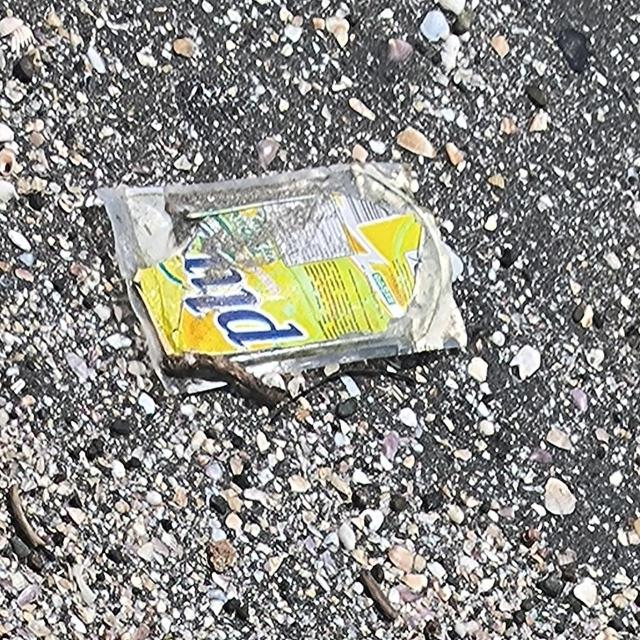plastic_waste: (101, 163, 472, 391)
